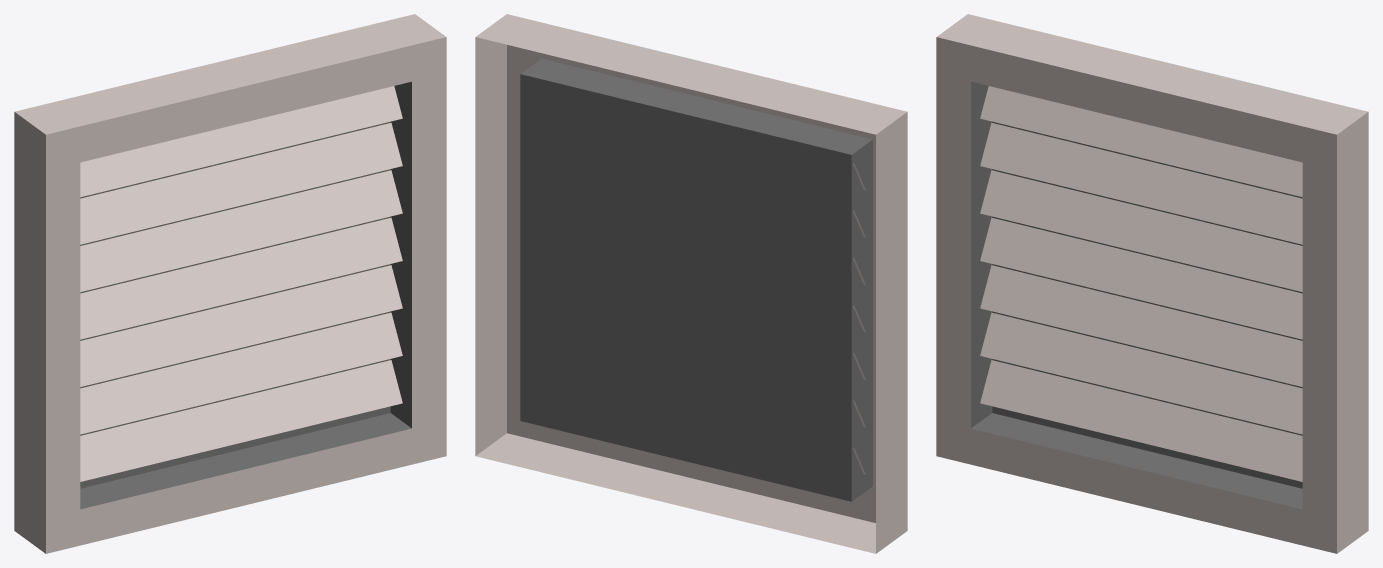
The model's file is Vent white.fbx.
The picture shows the model from 3 angles, left to right: view 1: azimuth 30°, elevation 25°; view 2: azimuth 150°, elevation 25°; view 3: azimuth 330°, elevation 25°; orthographic projection.
Parts seen in each view (by area): view 1: vent White; view 2: vent White; view 3: vent White.
Part boxes in pixels (x1=…): vent White: x1=14, y1=14, x2=446, y2=553; vent White: x1=475, y1=14, x2=907, y2=553; vent White: x1=936, y1=14, x2=1368, y2=553.
Bounding box in the file's own units: 60.42 × 60.42 × 8.22.
